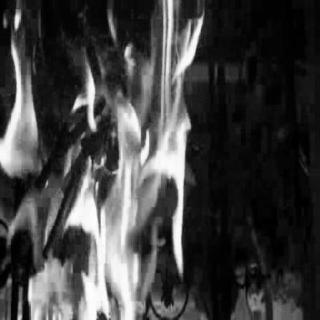Fire: (1, 2, 207, 316)
